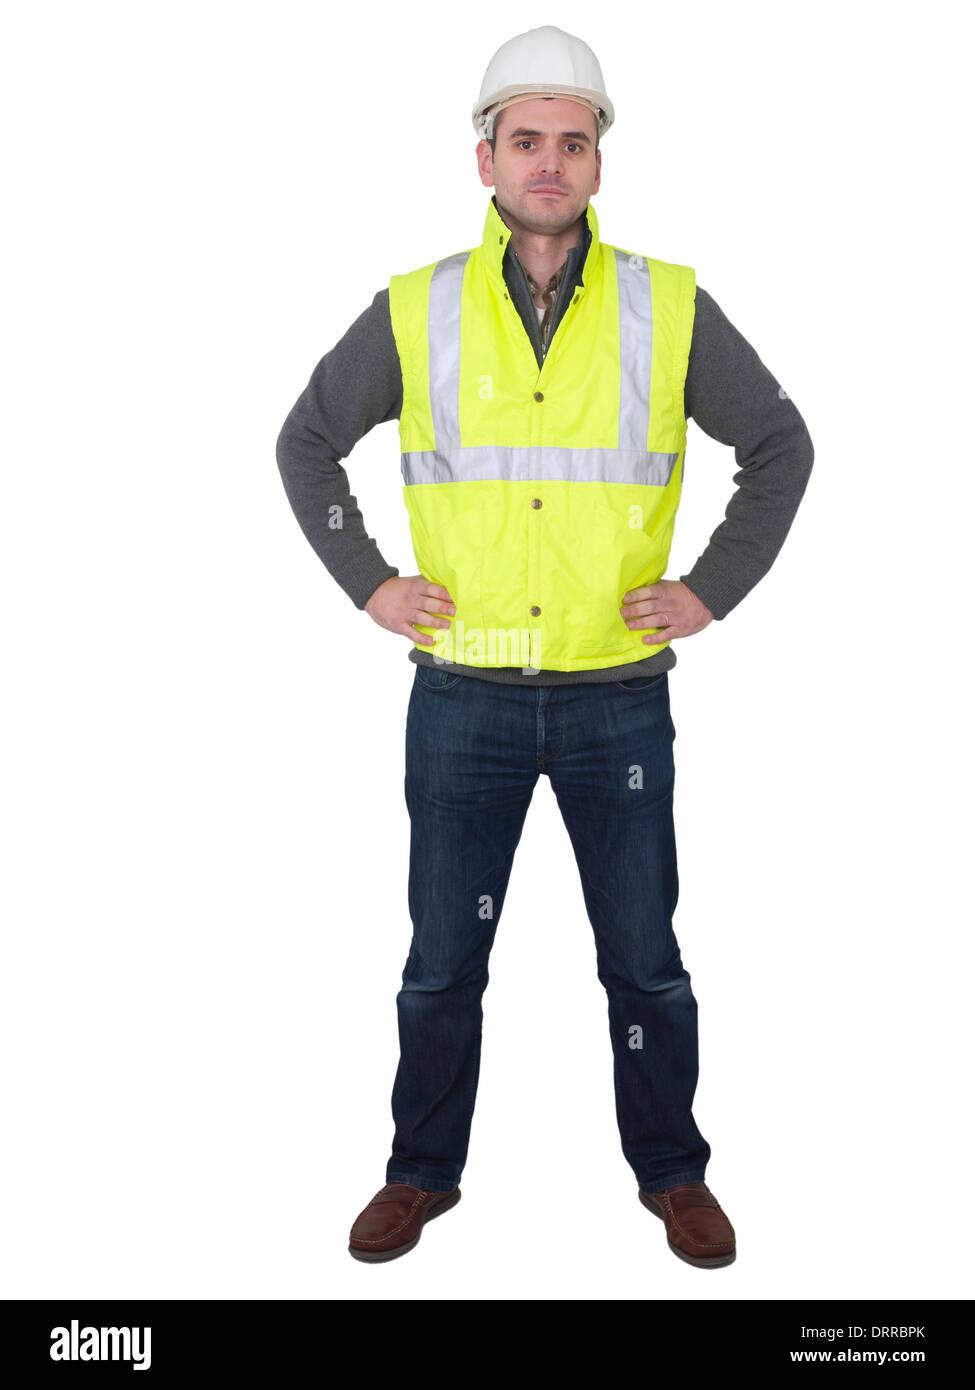hat: (421, 1, 644, 201)
vest: (314, 171, 740, 711)
